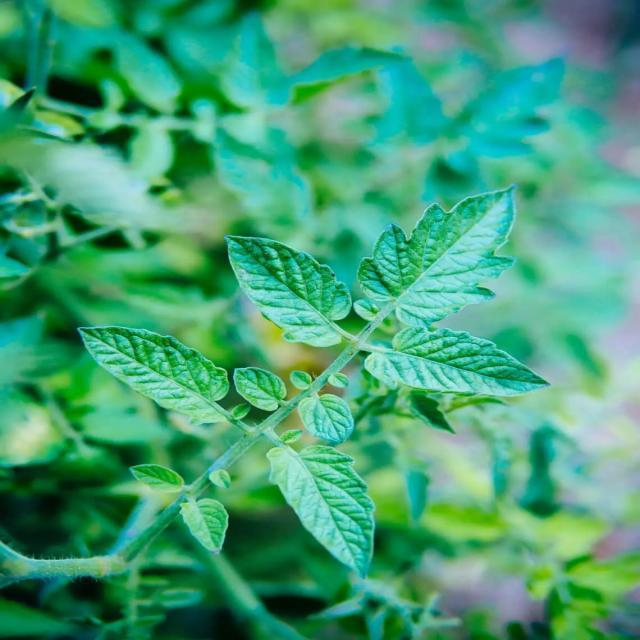Healthy Leaf: (356, 182, 509, 331), (267, 438, 392, 584), (212, 232, 346, 342), (69, 328, 226, 421), (373, 329, 553, 404), (178, 496, 236, 564), (126, 460, 200, 502), (302, 392, 363, 442), (232, 358, 288, 411)
